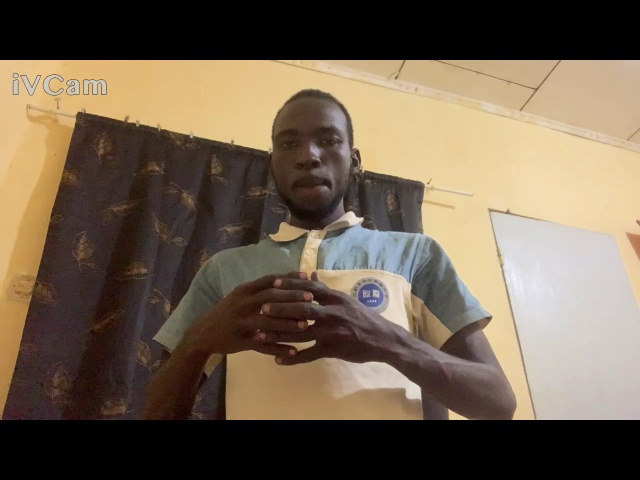comment: (204, 267, 413, 373)
